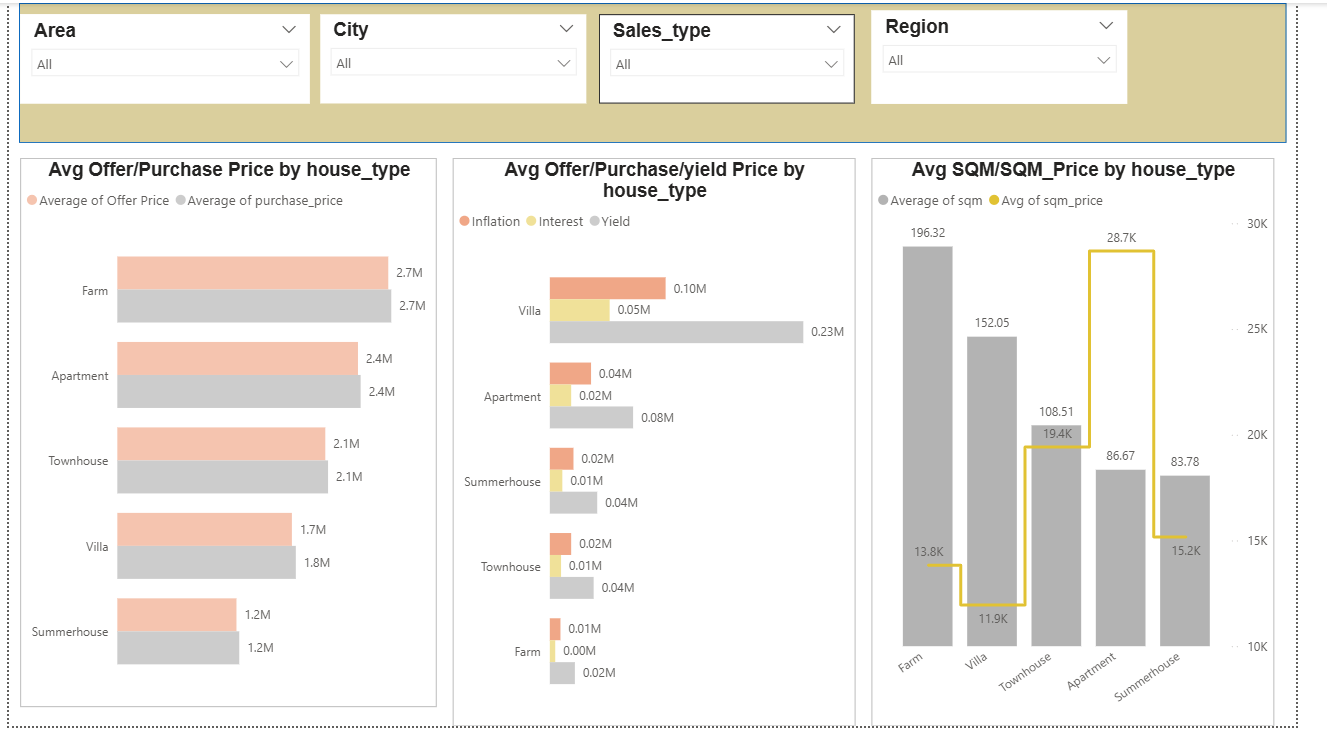

The page's visual inventory and layout, read from the dashboard file:
{"tool":"powerbi","page":{"name":"House Type Analysis","canvas":[1280,720],"ordinal":2},"visuals":[{"type":"shape","box":[10,0,1261.4,139.3],"z":0},{"type":"clusteredBarChart","title":"Avg Offer/Purchase Price by house_type","fields":{"Y":["Avg(Housing.Offer Price)","Avg(Housing.purchase_price)"],"Category":["Housing.house_type"]},"box":[10.7,154.8,414.7,546.4],"z":1000},{"type":"clusteredBarChart","title":"Avg Offer/Purchase/yield Price by house_type","fields":{"Category":["Housing.house_type"],"Y":["Sum(Housing.dk_ann_infl_rate%)","CountNonNull(Housing.nom_interest_rate%)","Sum(Housing.yield_on_mortgage_credit_bonds%)"]},"box":[441.4,154.8,400.5,566],"z":2000},{"type":"lineStackedColumnComboChart","title":"Avg SQM/SQM_Price by house_type","fields":{"Category":["Housing.house_type"],"Y2":["Avg(Housing.sqm_price)"],"Y":["Avg(Housing.sqm)"]},"box":[857.9,154.8,400.5,566],"z":2001},{"type":"slicer","fields":{"Values":["Housing.area"]},"box":[10.7,10.7,288.3,89],"z":2002},{"type":"slicer","fields":{"Values":["Housing.city"]},"box":[309.7,10.7,265.2,89],"z":2003},{"type":"slicer","fields":{"Values":["Housing.sales_type"]},"box":[587.3,10.7,254.5,89],"z":2004},{"type":"slicer","fields":{"Values":["Housing.region"]},"box":[857.9,7.1,254.5,92.5],"z":2005}]}

Visuals, with their boxes in screenshot pixels (x1, y1, x2, y2), scaled from the page's 1280x720 canvas onto the 1327x736 screenshot:
shape: [10, 0, 1318, 142]
"Avg Offer/Purchase Price by house_type" clusteredBarChart: [11, 158, 441, 717]
"Avg Offer/Purchase/yield Price by house_type" clusteredBarChart: [458, 158, 873, 735]
"Avg SQM/SQM_Price by house_type" lineStackedColumnComboChart: [889, 158, 1305, 735]
slicer - Housing.area: [11, 11, 310, 102]
slicer - Housing.city: [321, 11, 596, 102]
slicer - Housing.sales_type: [609, 11, 873, 102]
slicer - Housing.region: [889, 7, 1153, 102]
